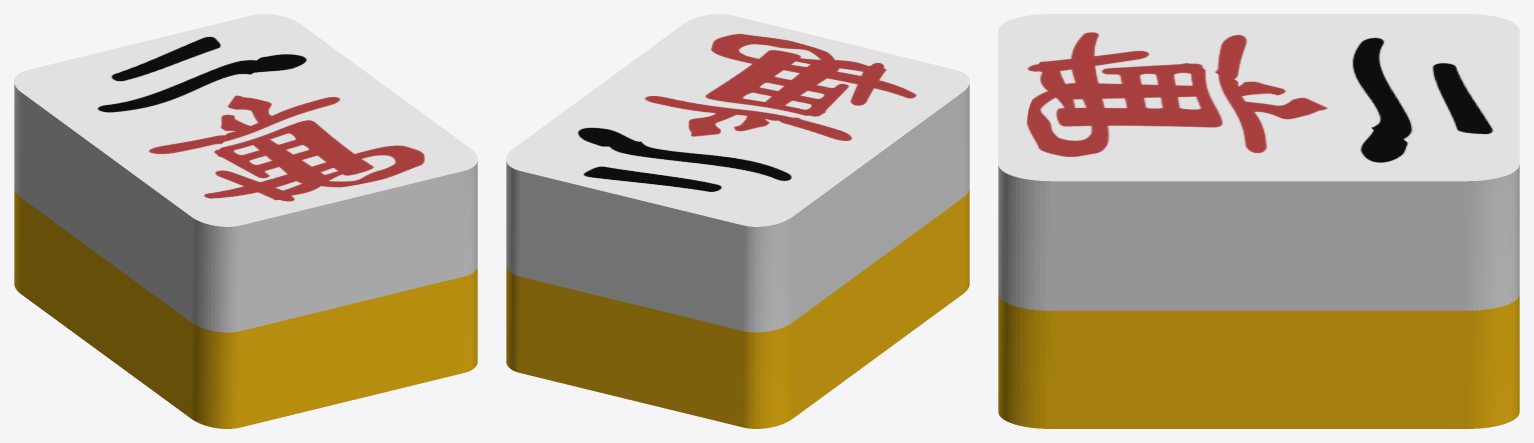
The model's file is Legacyplane.fbx.
3 views of the same model, side by side, from view 1: azimuth 30°, elevation 25°; view 2: azimuth 150°, elevation 25°; view 3: azimuth 270°, elevation 25° (orthographic). The views are drawn at different scales.
Visible parts, largest first — view 1: Plane.036; view 2: Plane.036; view 3: Plane.036.
Part boxes in pixels (x1,y1,x2,y2): Plane.036: (14, 14, 477, 428); Plane.036: (506, 14, 969, 428); Plane.036: (998, 14, 1519, 428).
Size of the model in its own units: 334 by 231 by 440.
